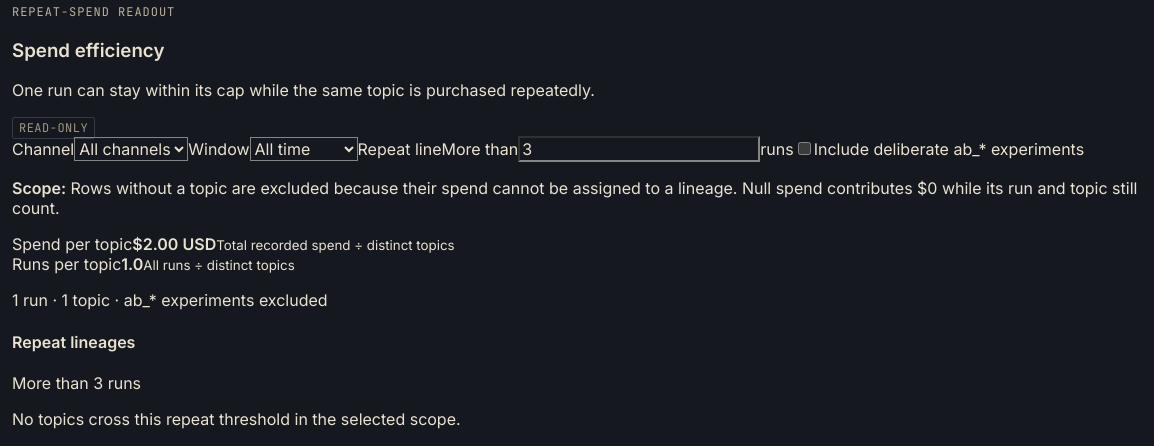
Test: SpendEfficiencyReadout › lets the operator clear the repeat threshold before typing a new value
The width and height of the screenshot is (1154, 446).
Clear the number field named "Repeat-lineage run threshold": (639, 149) [518,136,760,162]
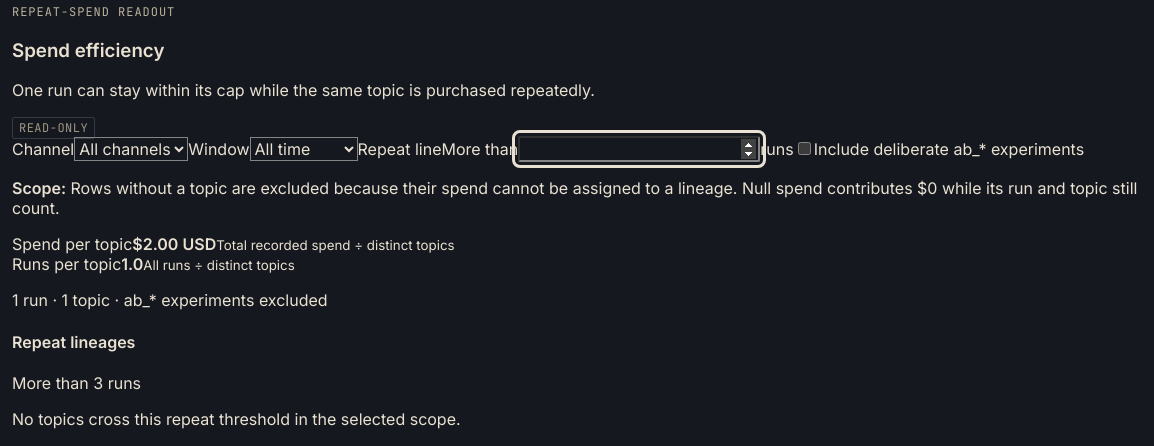
In the number field named "Repeat-lineage run threshold": (639, 149) [518,136,760,162], type "1"
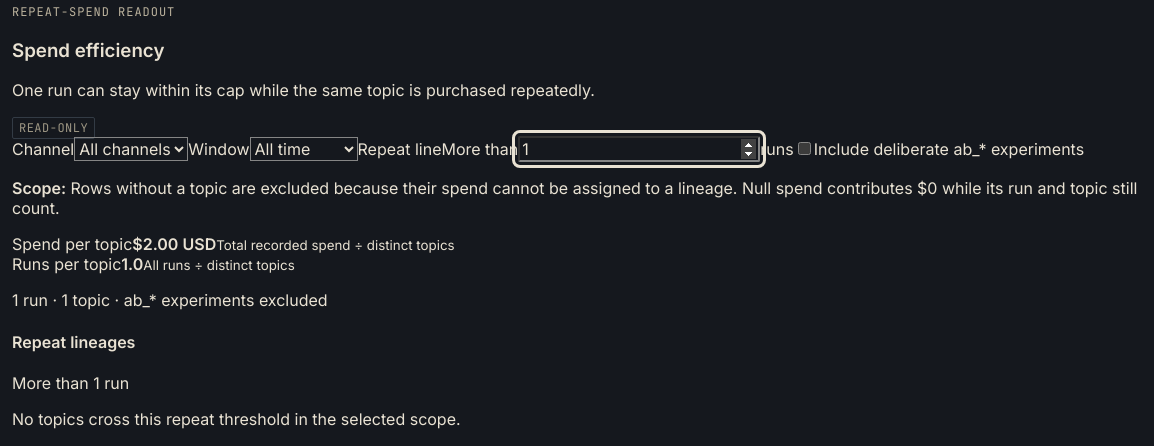
Expected: the text "More than 1 run" is shown, [12,373,129,393]
